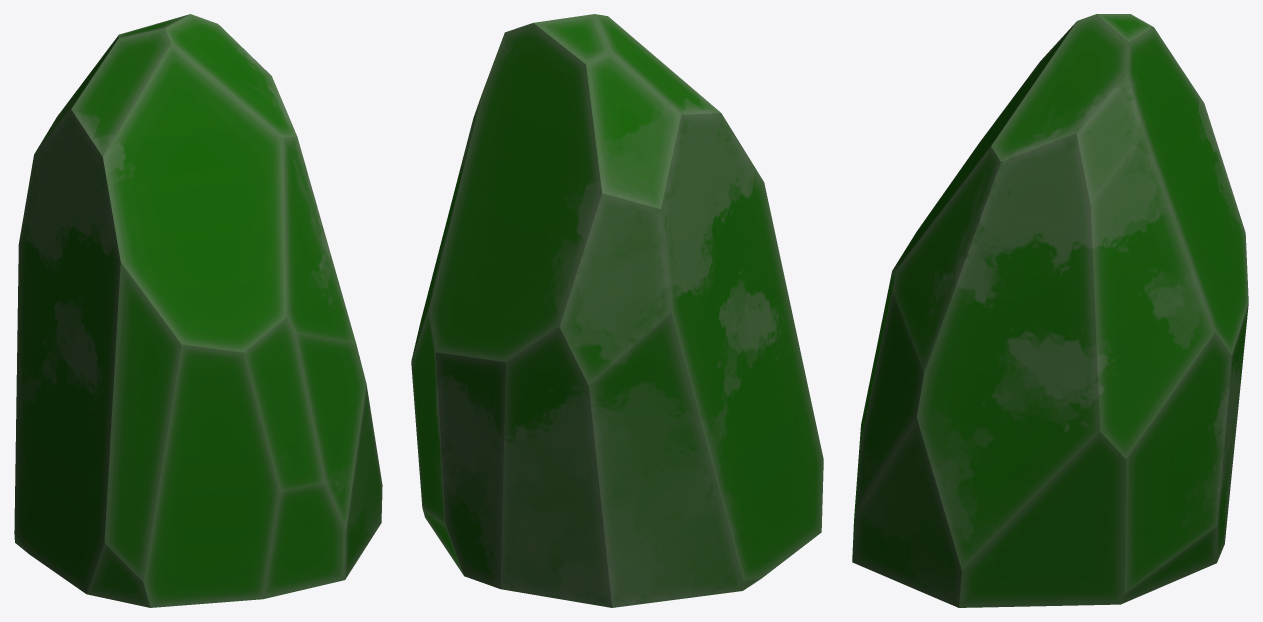
File: parasizoyun.fbx
The picture shows the model from 3 angles, left to right: view 1: azimuth 30°, elevation 25°; view 2: azimuth 150°, elevation 25°; view 3: azimuth 270°, elevation 25°; orthographic projection. The views are drawn at different scales.
Parts seen in each view (by area): view 1: Rock_01_01; view 2: Rock_01_01; view 3: Rock_01_01.
Boxes of the visible parts, box(x1,y1,x2,y2) form: Rock_01_01: box(14, 14, 382, 607); Rock_01_01: box(411, 14, 823, 607); Rock_01_01: box(852, 14, 1248, 607).
Size of the model in its own units: 1.83 by 2.84 by 1.97.
